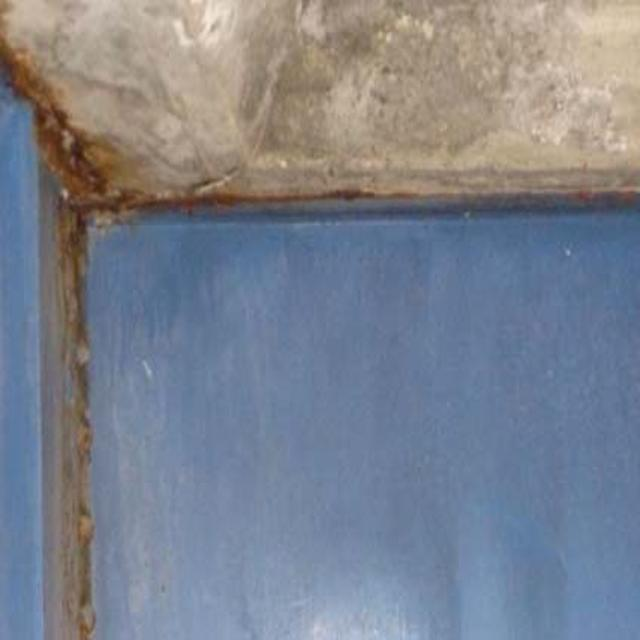corrosion: (3, 47, 114, 640), (141, 176, 443, 220)
